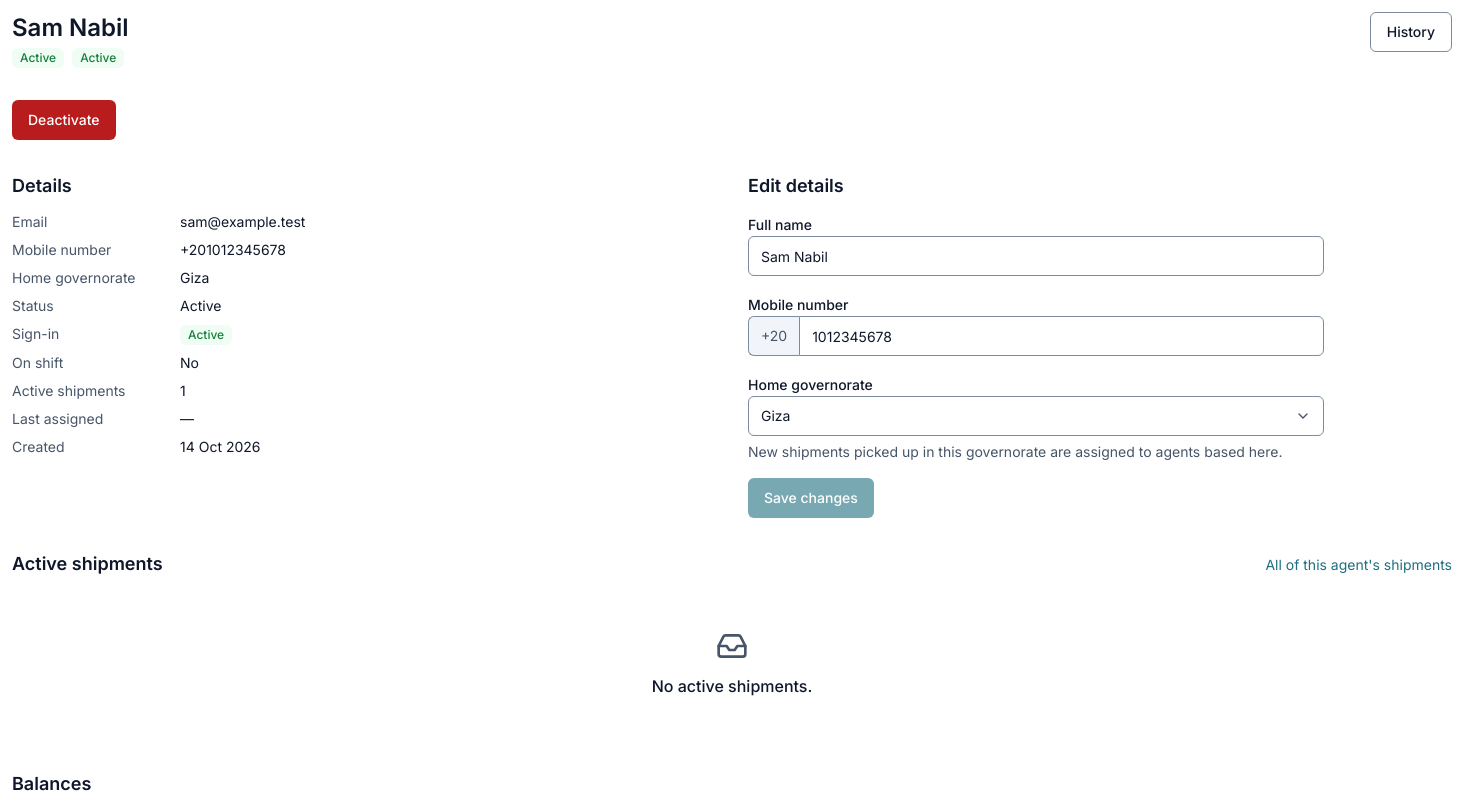
Test: agent (spec 03 AD-11) › edit sends only the changed fields; Save is off without a change
Expected: the button "Save changes" is disabled, [748, 478, 874, 518]
Click the dropdown named "Home governorate".
click(776, 416)  # box [748, 396, 1324, 436]
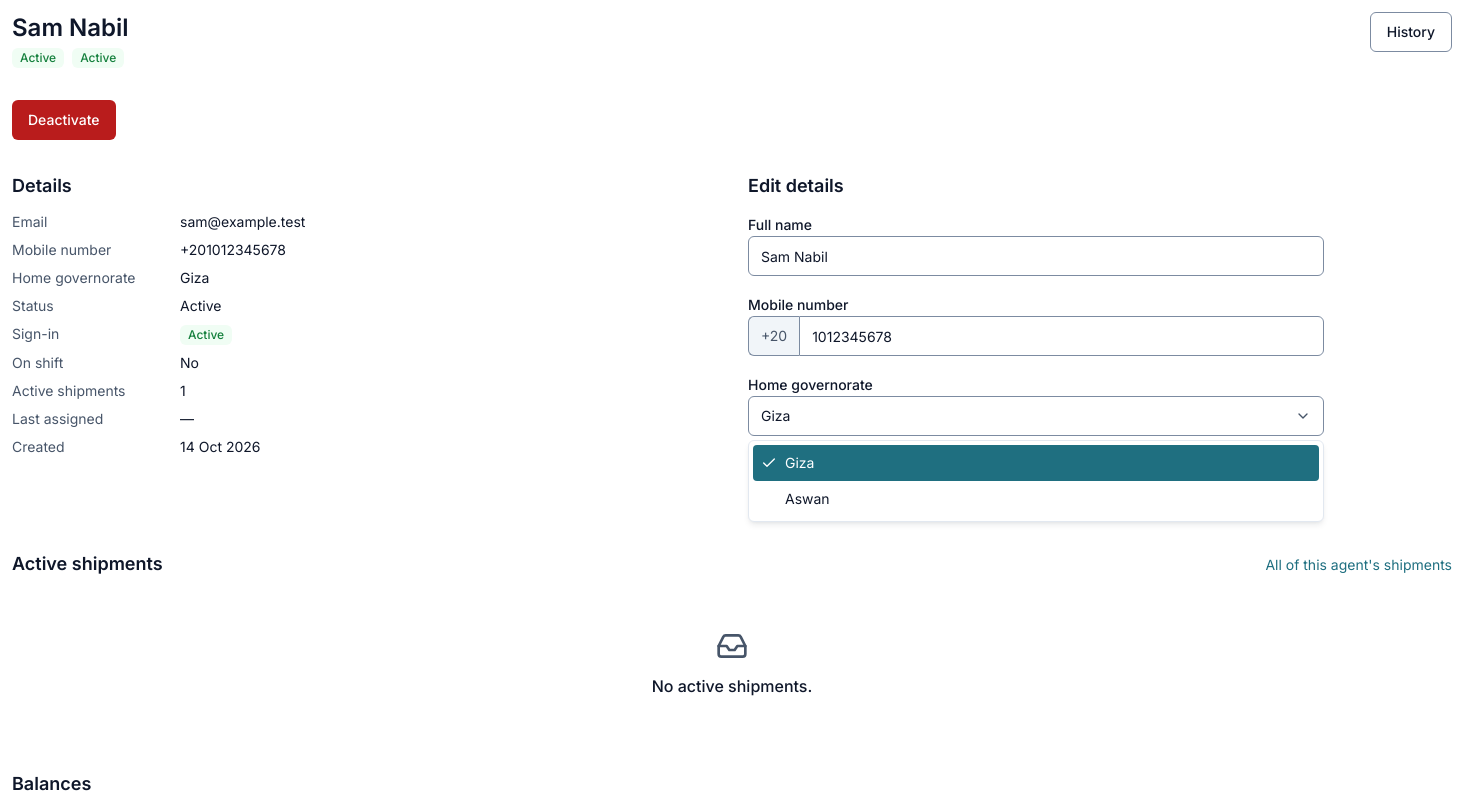
Click the option "Aswan".
click(807, 498)  # box [785, 490, 830, 507]
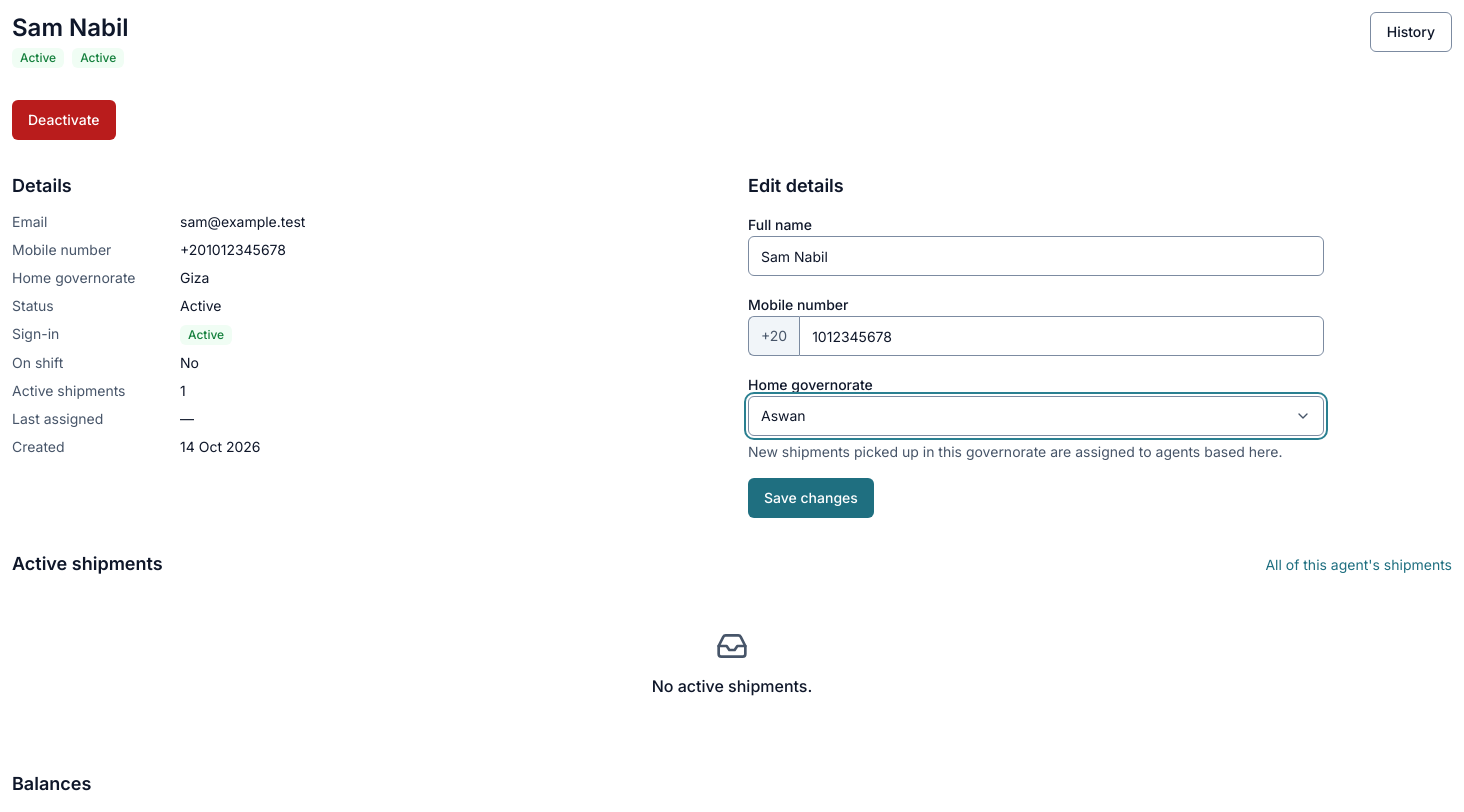
Click the button "Save changes".
click(811, 498)  # box [748, 478, 874, 518]
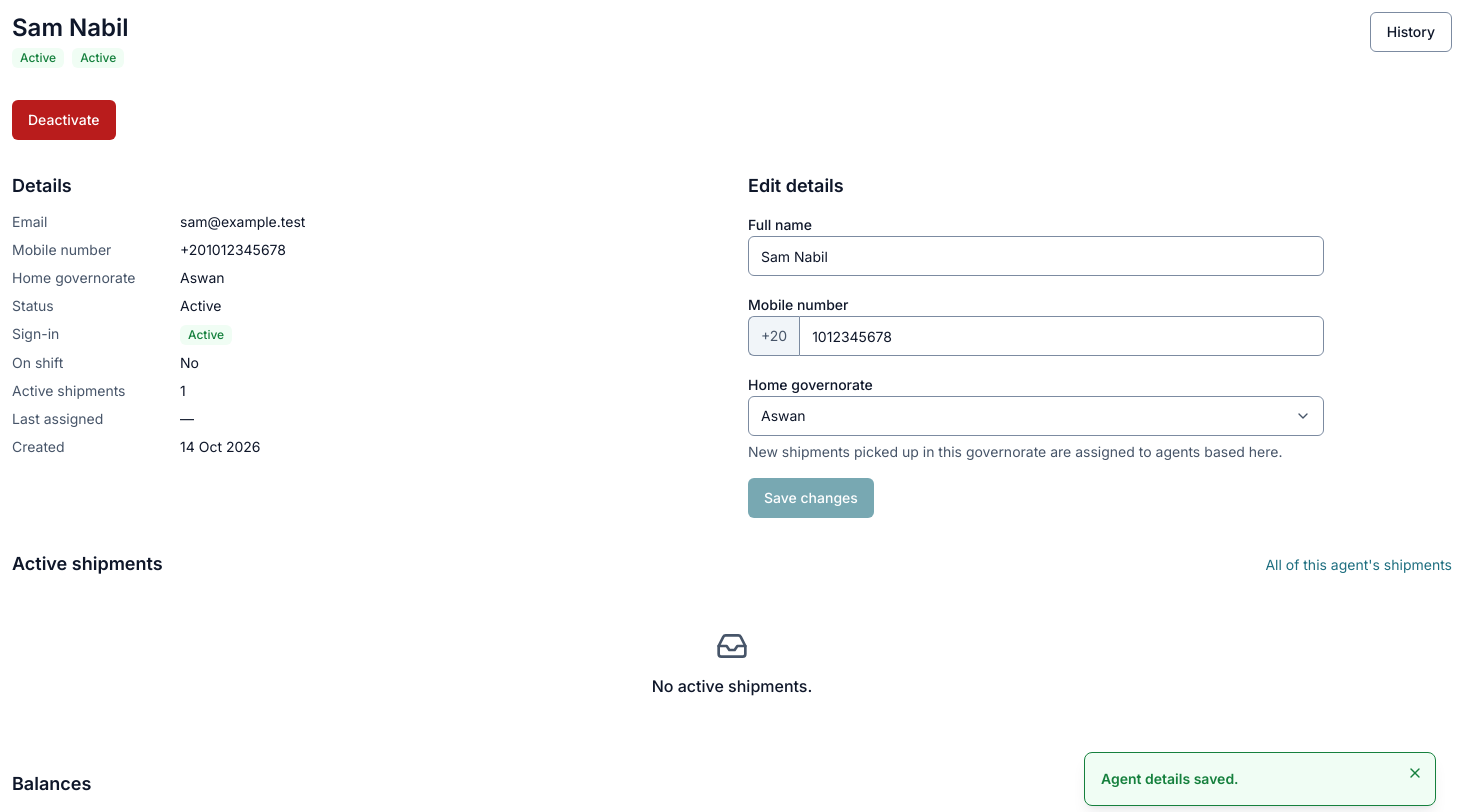
Expected: the text "Agent details saved." is shown, [1101, 770, 1239, 787]
